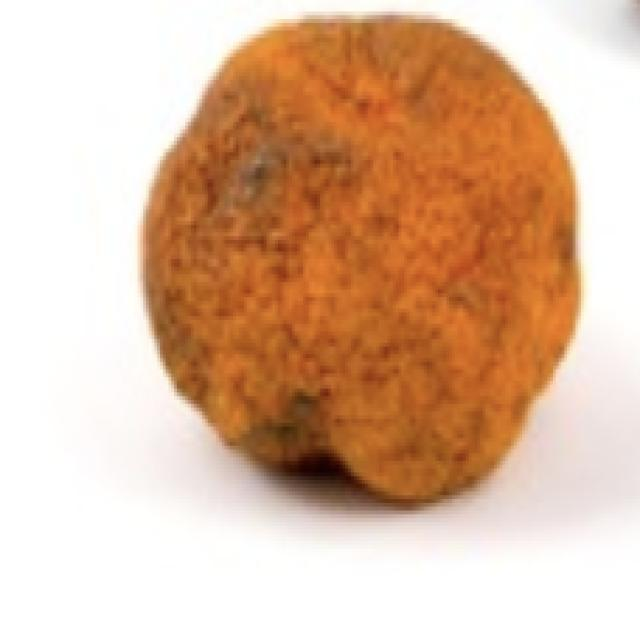sangat_busuk: (136, 4, 589, 519)
